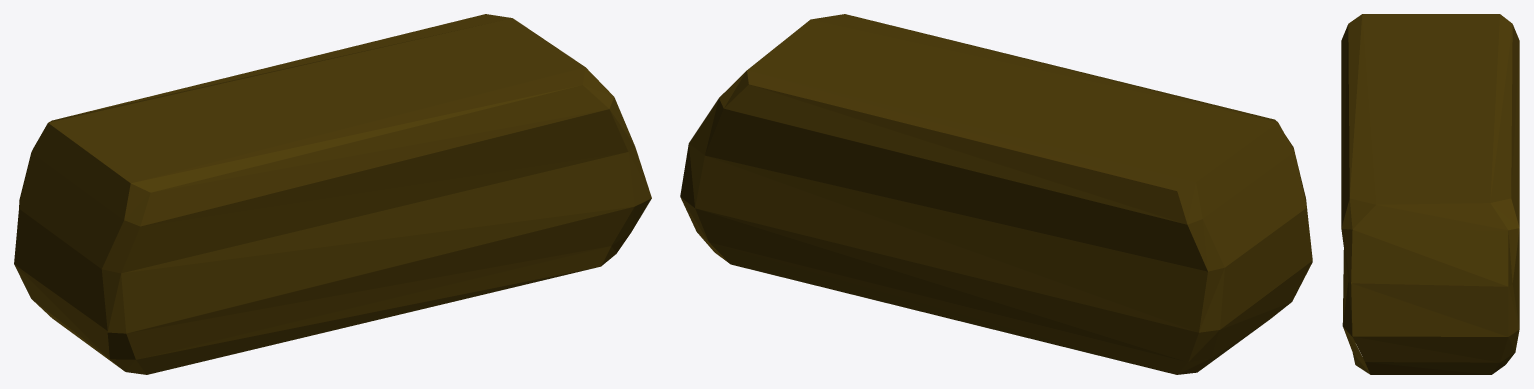
Rendered from obj_brick_6_0.obj.
3 renders of one model, left to right at view 1: azimuth 30°, elevation 25°; view 2: azimuth 150°, elevation 25°; view 3: azimuth 270°, elevation 25°, orthographic. The views are drawn at different scales.
Size of the model in its own units: 2.94 by 1 by 1.
